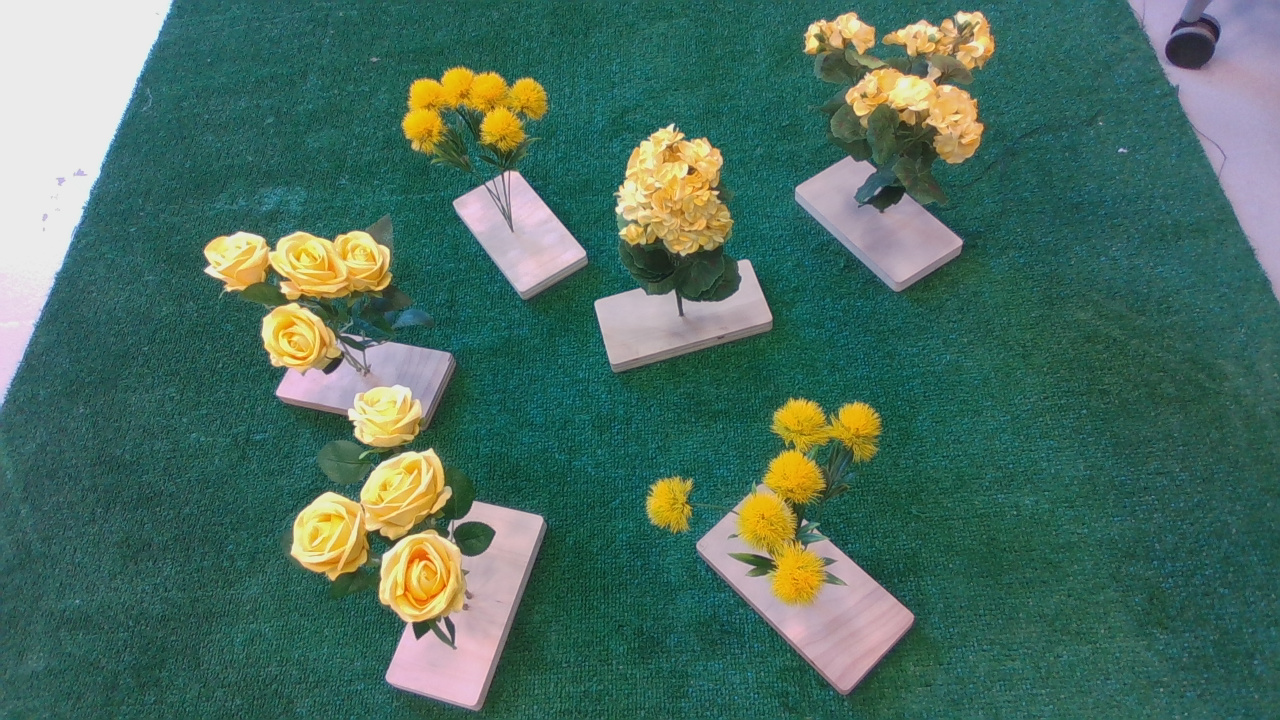dandelion: (642, 398, 895, 618), (398, 67, 579, 169)
geranium: (796, 12, 1003, 208), (611, 126, 753, 310)
rose: (293, 391, 508, 646), (190, 218, 424, 382)
